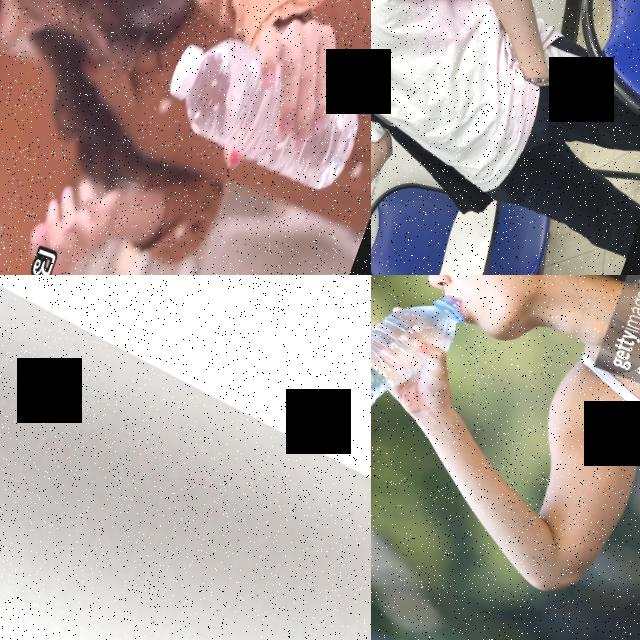bottle: (151, 16, 371, 193), (371, 275, 473, 446)
cup: (0, 275, 371, 640)
